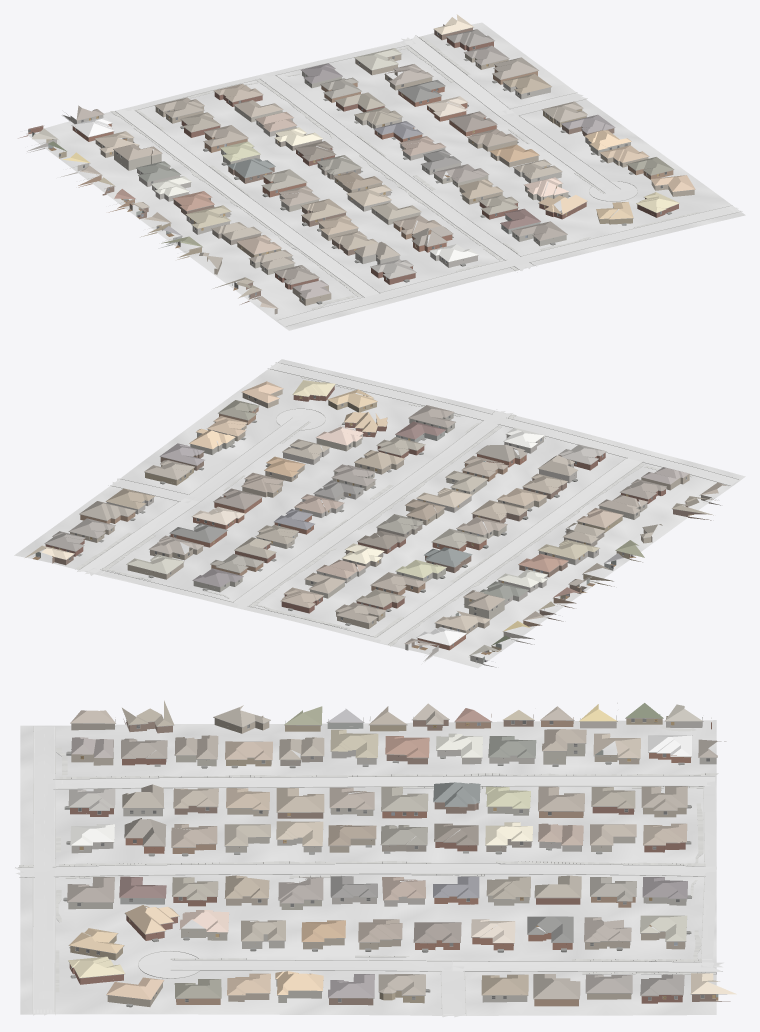
3 views of the same model, one above another, from view 1: azimuth 30°, elevation 25°; view 2: azimuth 150°, elevation 25°; view 3: azimuth 270°, elevation 25° (orthographic). The views are drawn at different scales.
Visible parts, largest first — view 1: ground, roof, concrete, wall, detail, asphalt, wall_stucco, curb, walk, wall_stone, glass; view 2: ground, roof, concrete, wall, detail, asphalt, wall_stucco, curb, walk, wall_stone, glass; view 3: ground, roof, concrete, wall, asphalt, curb, detail, walk, wall_stucco, wall_stone, glass.
Boxes of the visible parts, x1,y1,x2,y2 form: ground: (26, 22, 745, 330); roof: (32, 14, 695, 308); concrete: (116, 35, 637, 296); wall: (18, 24, 678, 314); detail: (28, 27, 695, 304); asphalt: (277, 206, 741, 326); wall_stucco: (60, 69, 694, 305); curb: (114, 35, 742, 326); walk: (54, 36, 699, 309); wall_stone: (27, 83, 561, 267); glass: (28, 32, 666, 300); ground: (14, 359, 745, 668); roof: (25, 380, 726, 655); concrete: (77, 409, 641, 644); wall: (45, 386, 720, 651); detail: (33, 384, 712, 663); asphalt: (271, 362, 738, 485); wall_stucco: (190, 389, 689, 644); curb: (77, 362, 738, 644); walk: (75, 376, 692, 657); wall_stone: (106, 434, 598, 667); glass: (67, 395, 686, 660); ground: (20, 720, 716, 1015); roof: (67, 700, 736, 999); concrete: (15, 776, 723, 1017); wall: (69, 714, 730, 1006); asphalt: (33, 726, 55, 1015); curb: (15, 726, 722, 1016); detail: (63, 716, 726, 1007); walk: (19, 725, 718, 992); wall_stucco: (68, 703, 686, 1006); wall_stone: (71, 717, 716, 1002); glass: (71, 718, 709, 1001).
Size of the model in its own units: 265 by 11.6 by 263.
